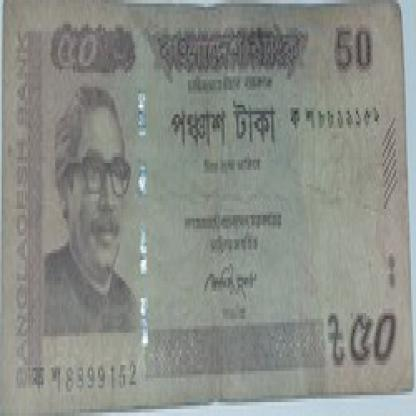Fifty taka: (334, 291, 414, 395), (48, 24, 118, 83)
